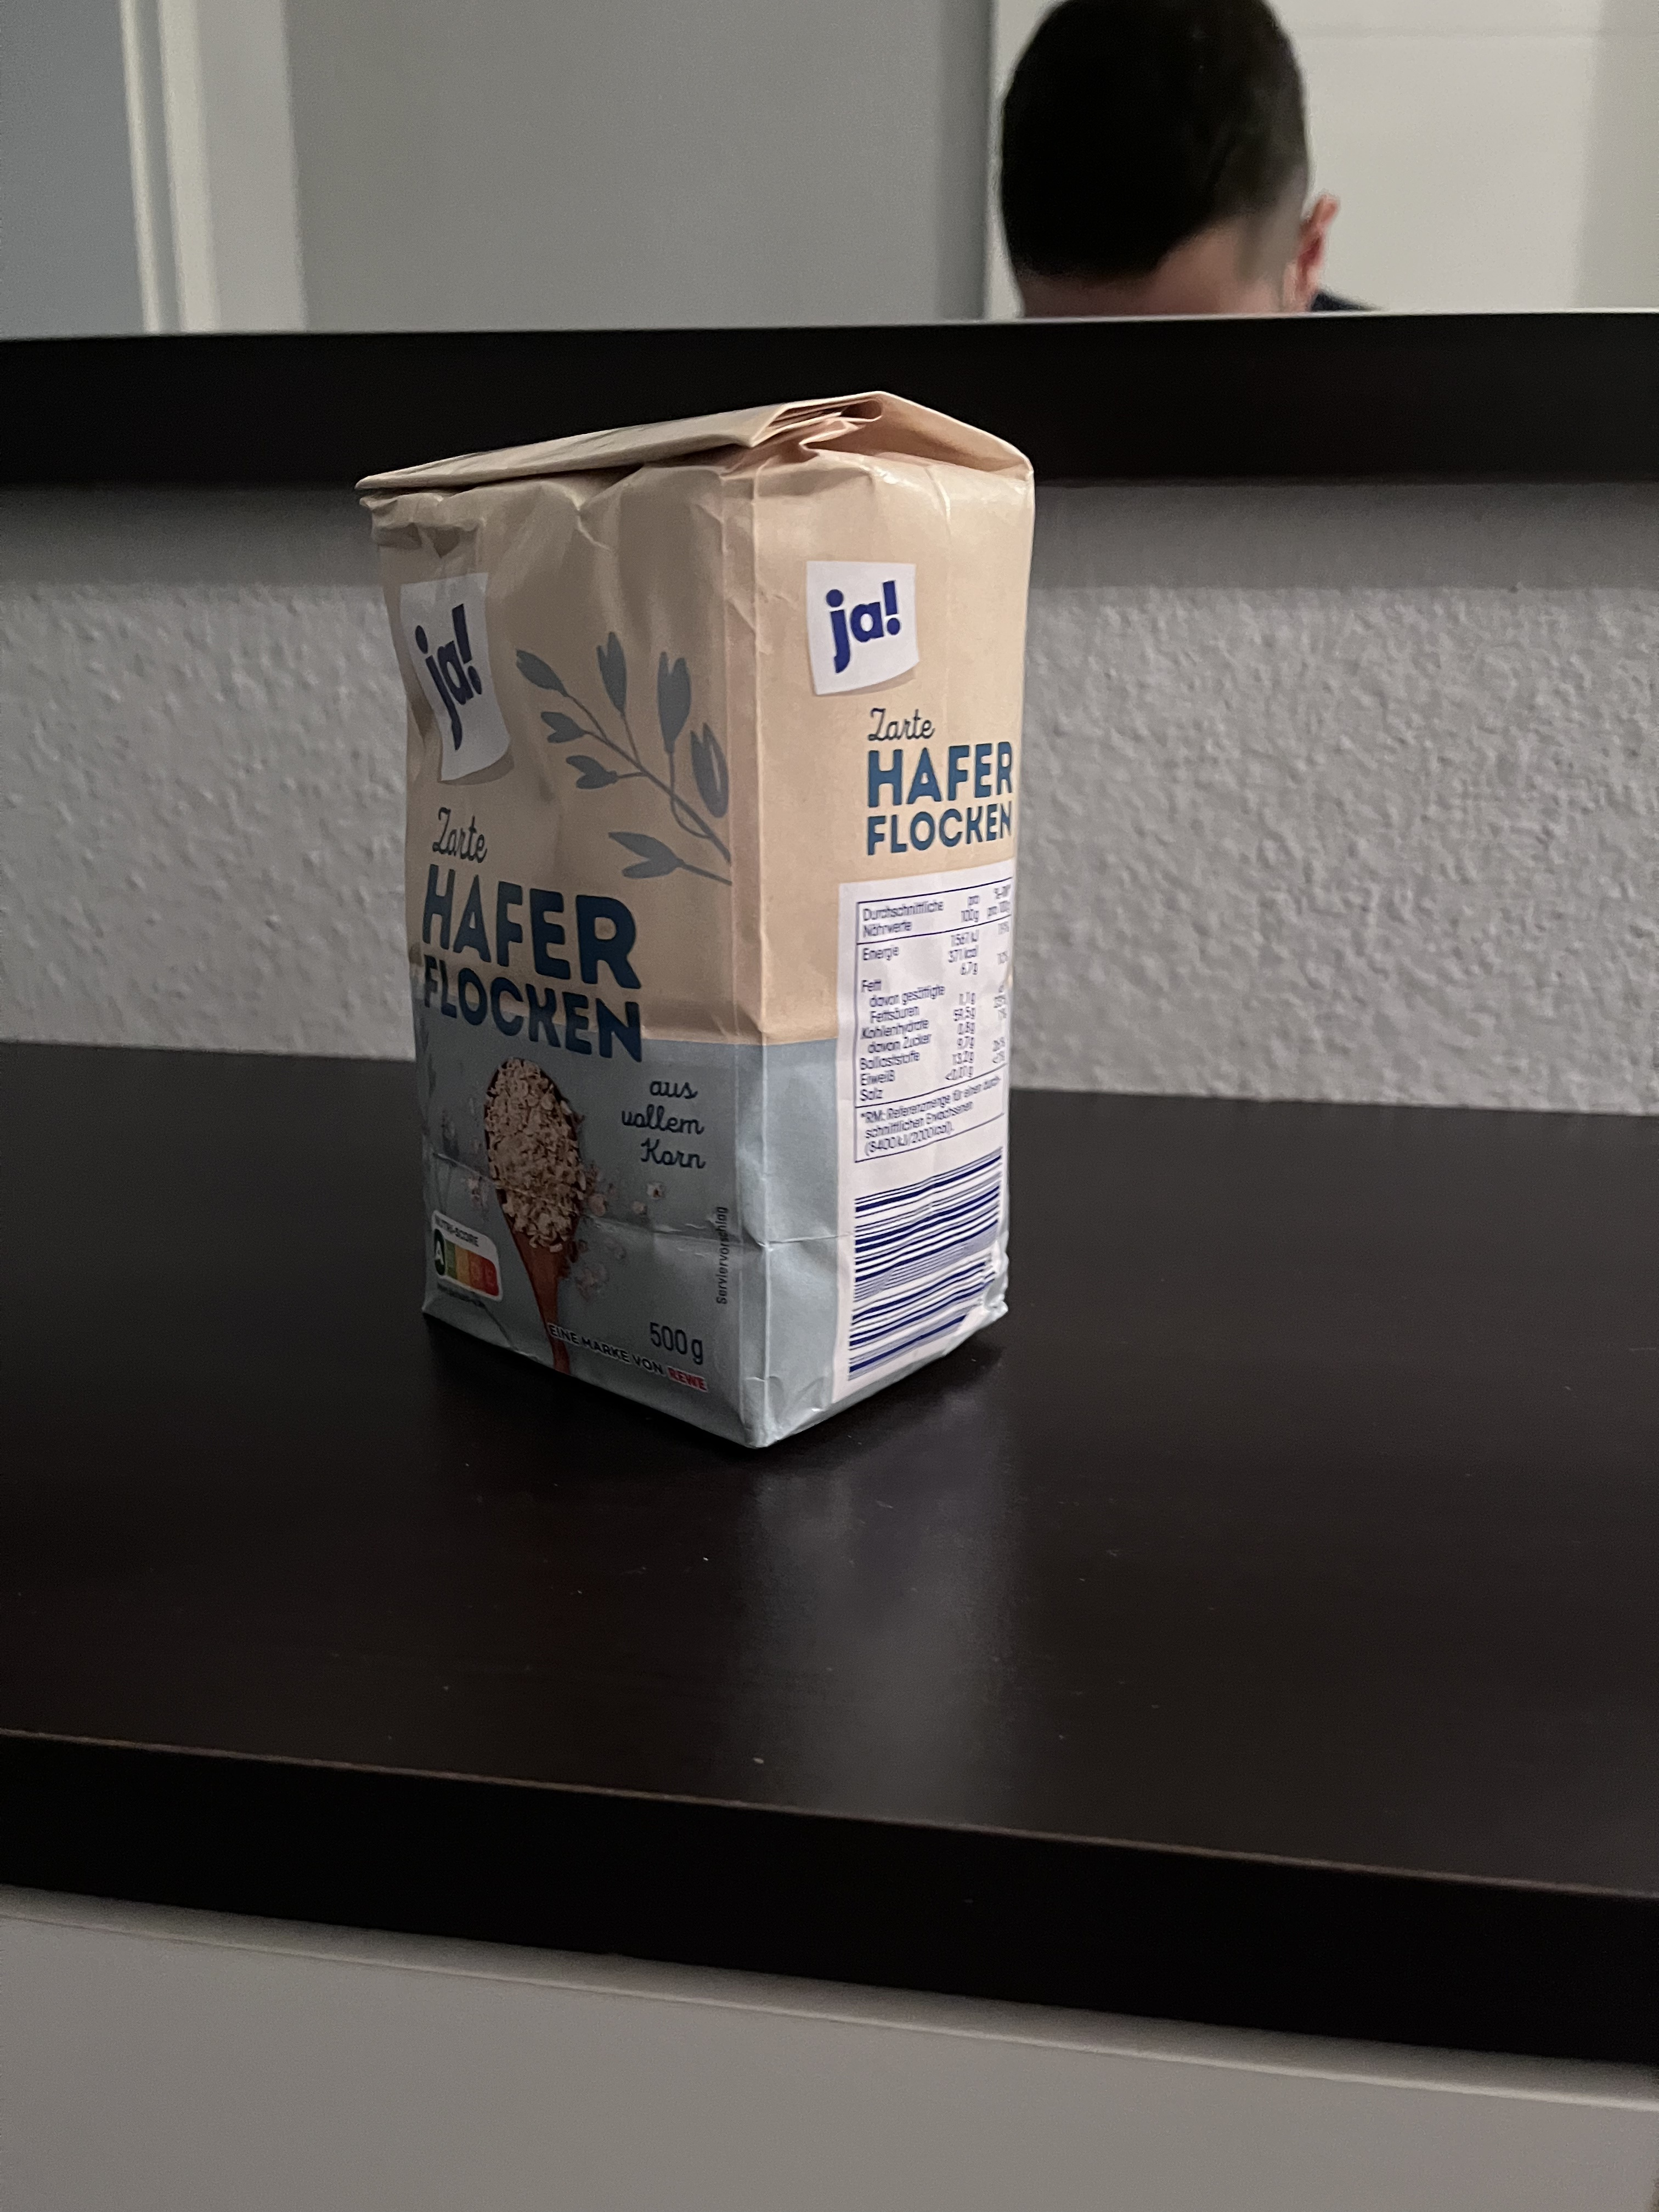haferflocken_ja: (354, 374, 1044, 1454)
